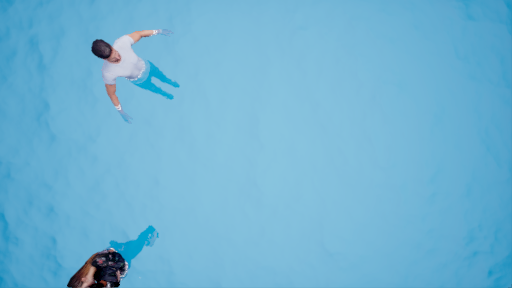person: (87, 19, 177, 113), (60, 223, 143, 288)
